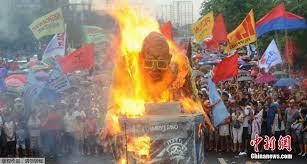fire: (104, 2, 191, 117)
